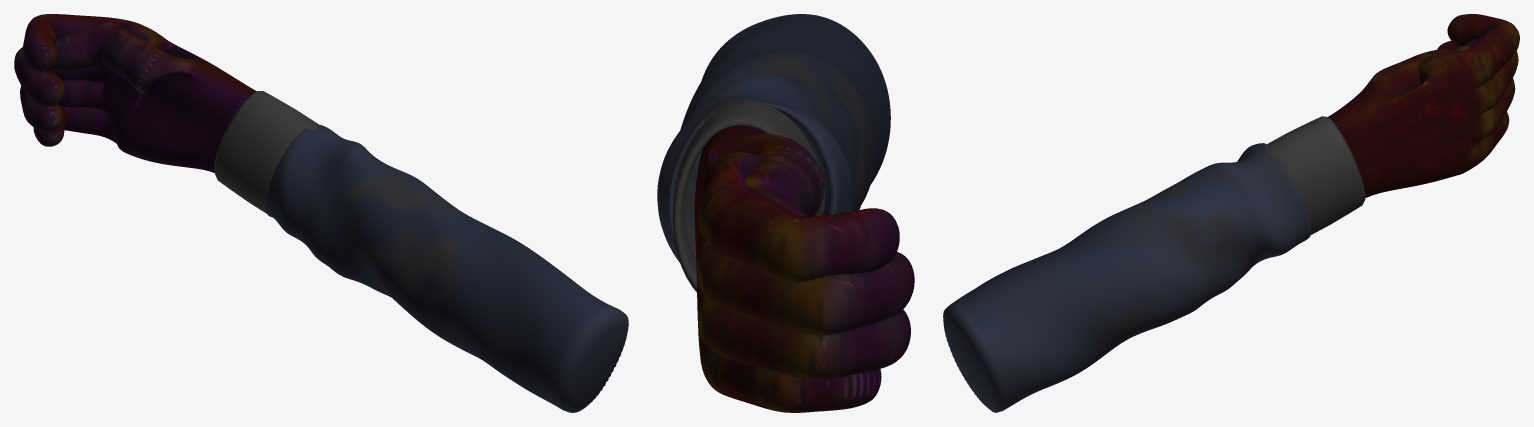
File: fp_hand_R_stick.glb
3 renders of one model, left to right at view 1: azimuth 30°, elevation 25°; view 2: azimuth 150°, elevation 25°; view 3: azimuth 270°, elevation 25°, orthographic. The views are drawn at different scales.
Visible parts, largest first — view 1: fp_hand_R_stick; view 2: fp_hand_R_stick; view 3: fp_hand_R_stick.
Boxes of the visible parts, <box> form: fp_hand_R_stick: <box>14,14,628,412</box>; fp_hand_R_stick: <box>657,14,914,412</box>; fp_hand_R_stick: <box>943,14,1519,412</box>.
Size of the model in its own units: 0.2637 by 0.1885 by 0.3816.
Materials: 3 (1 with a texture image).
